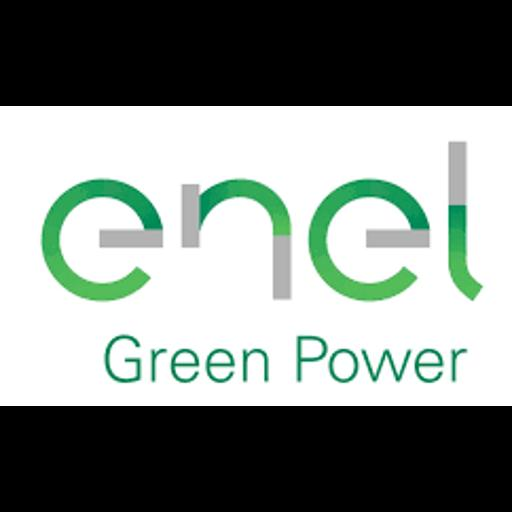Enel Energia S-p-A: (0, 106, 512, 406)
